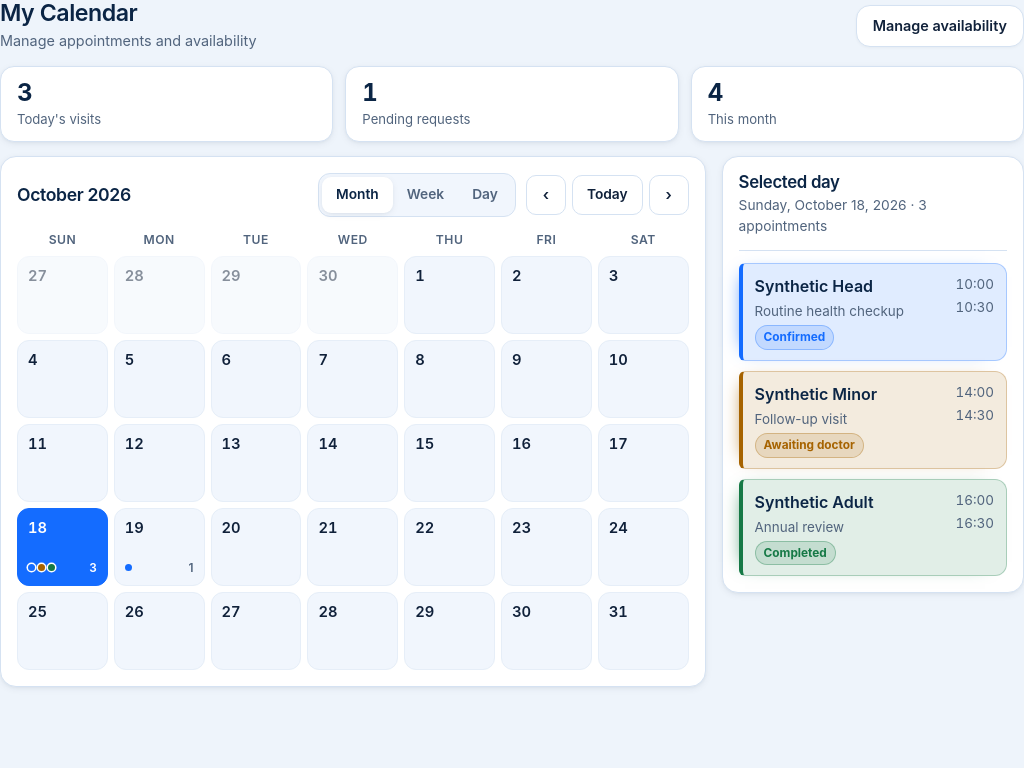
Scenario: DoctorCalendarPage › asks before completing, then shows the status the server returned
This screenshot has width=1024, height=768.
Click the button "Synthetic Head". click: [873, 312]
box: 739,263 -> 1007,361
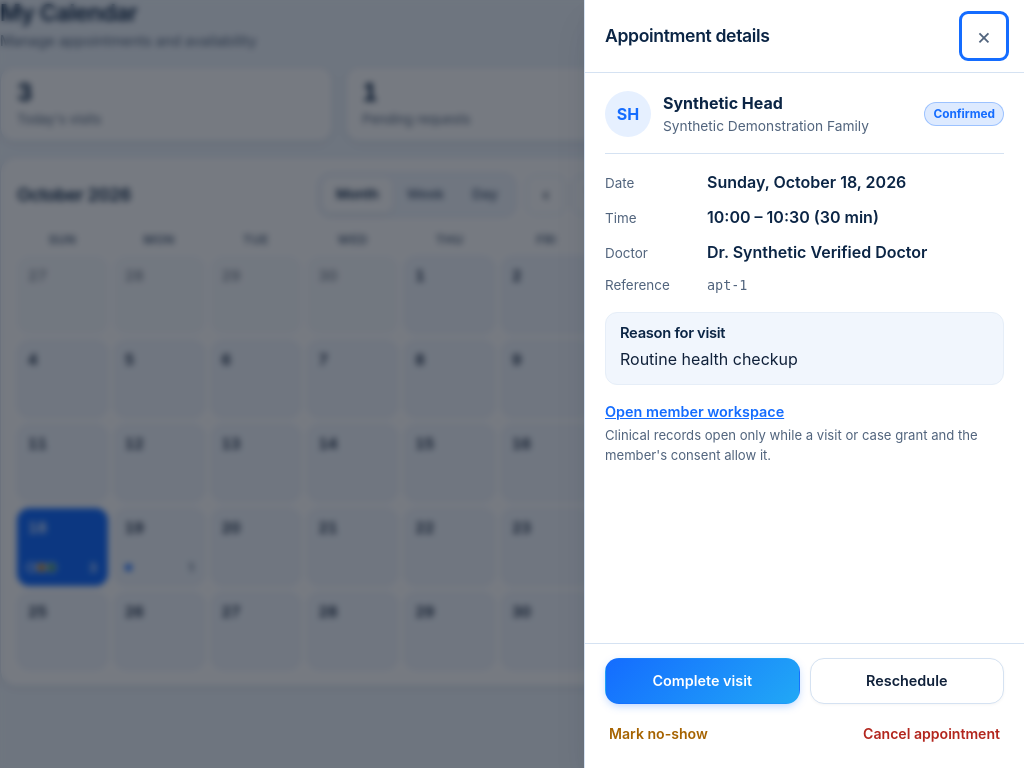
Click the button "Complete visit". click: [702, 681]
box: 605,658 -> 800,704
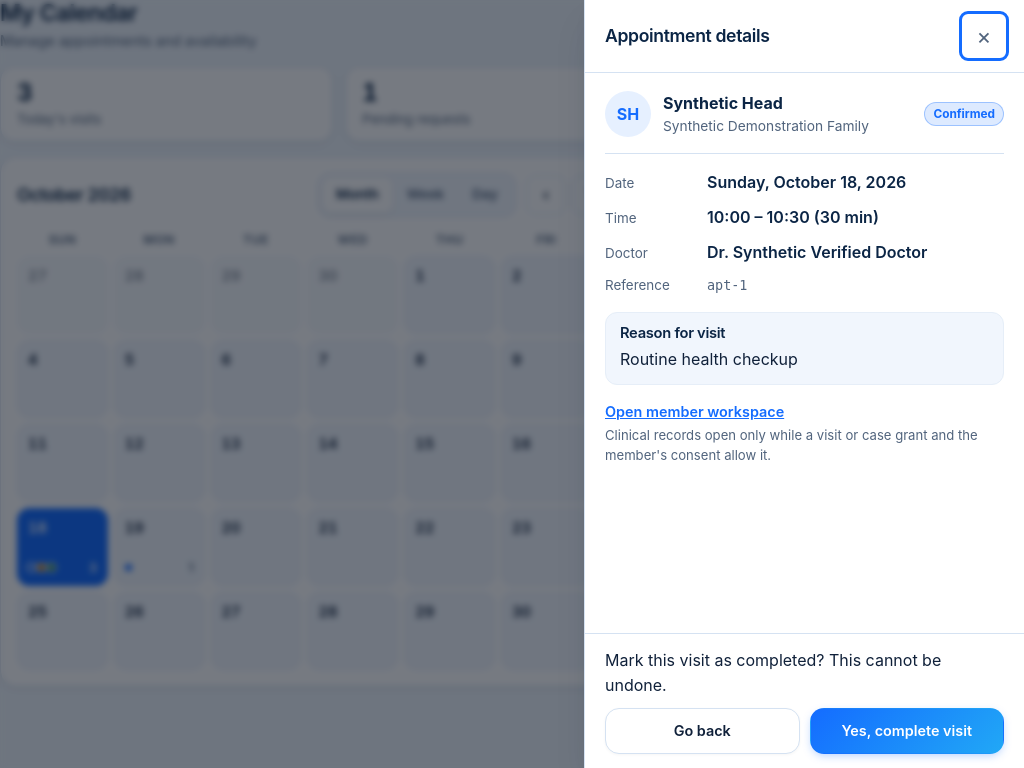
Click the button "Yes, complete visit". click: [907, 731]
box: 810,708 -> 1004,754
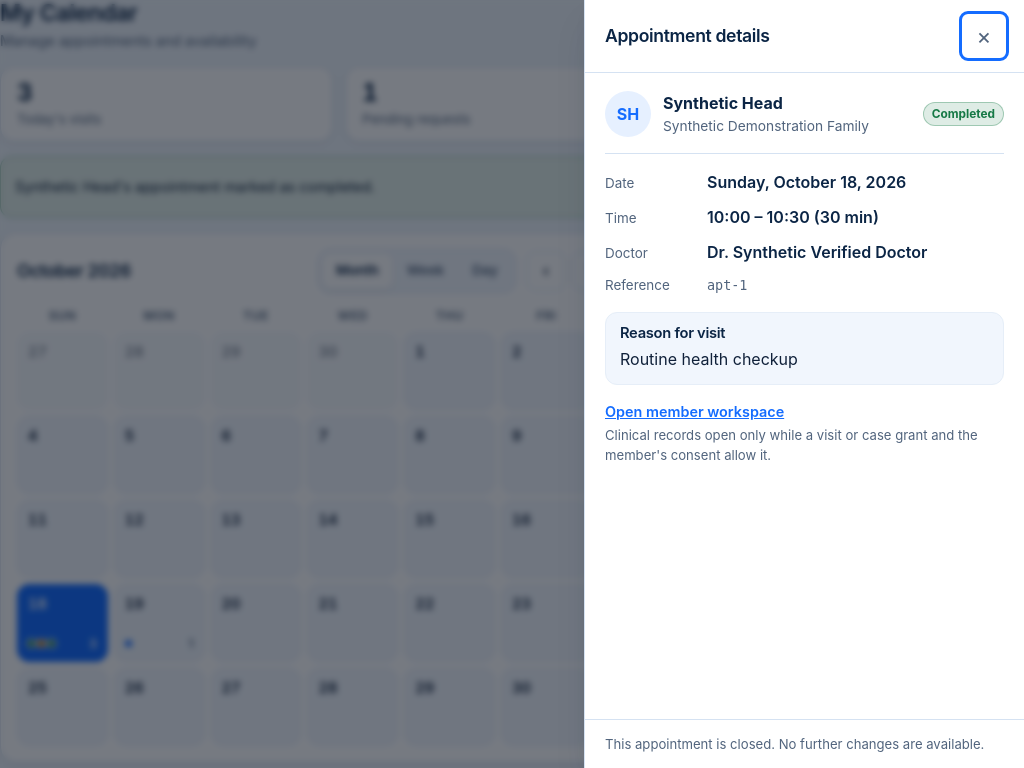
Result: the text "Synthetic Head's appointment marked as completed." is shown at 15,176 -> 375,198
Result: the text "This appointment is closed" is shown at 605,736 -> 984,752
